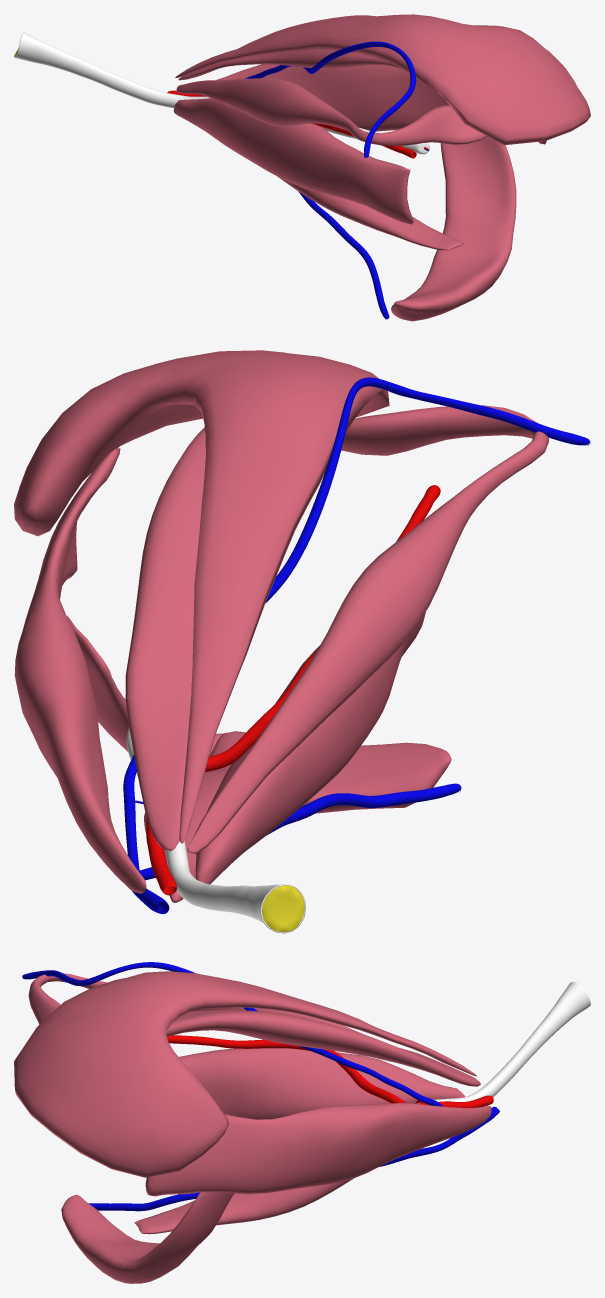
Rendered from VH_F_Eye_L_Landmarks.fbx.
3 renders of one model, top to bottom at view 1: azimuth 30°, elevation 25°; view 2: azimuth 150°, elevation 25°; view 3: azimuth 270°, elevation 25°, orthographic. The views are drawn at different scales.
Parts seen in each view (by area): view 1: VH_F_eye_L_landmark_muscles, VH_F_eye_L_landmark_dura_mater_optic_nerve, VH_F_eye_L_landmark_veins, VH_F_eye_L_landmark_arteries; view 2: VH_F_eye_L_landmark_muscles, VH_F_eye_L_landmark_veins, VH_F_eye_L_landmark_dura_mater_optic_nerve, VH_F_eye_L_landmark_arteries; view 3: VH_F_eye_L_landmark_muscles, VH_F_eye_L_landmark_veins, VH_F_eye_L_landmark_dura_mater_optic_nerve, VH_F_eye_L_landmark_arteries.
Part boxes in pixels (bbox=[...]): VH_F_eye_L_landmark_muscles: bbox=[173, 14, 590, 321]; VH_F_eye_L_landmark_dura_mater_optic_nerve: bbox=[14, 32, 429, 154]; VH_F_eye_L_landmark_veins: bbox=[245, 41, 429, 319]; VH_F_eye_L_landmark_arteries: bbox=[167, 90, 428, 158]; VH_F_eye_L_landmark_muscles: bbox=[14, 350, 548, 902]; VH_F_eye_L_landmark_veins: bbox=[123, 377, 590, 914]; VH_F_eye_L_landmark_dura_mater_optic_nerve: bbox=[126, 727, 305, 933]; VH_F_eye_L_landmark_arteries: bbox=[146, 485, 440, 895]; VH_F_eye_L_landmark_muscles: bbox=[14, 971, 491, 1283]; VH_F_eye_L_landmark_veins: bbox=[22, 962, 499, 1211]; VH_F_eye_L_landmark_dura_mater_optic_nerve: bbox=[417, 981, 590, 1103]; VH_F_eye_L_landmark_arteries: bbox=[167, 1035, 493, 1107].
Size of the model in its own units: 4.98 by 3.58 by 6.58.
